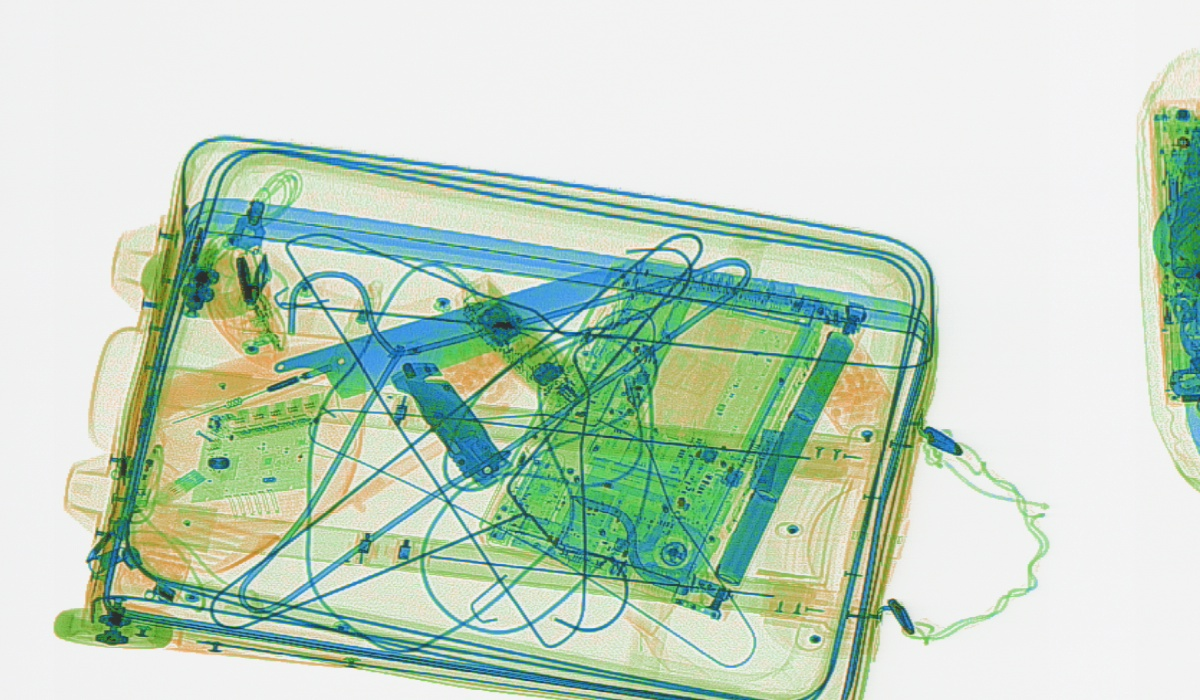knife: (152, 260, 658, 417), (389, 359, 513, 488)
